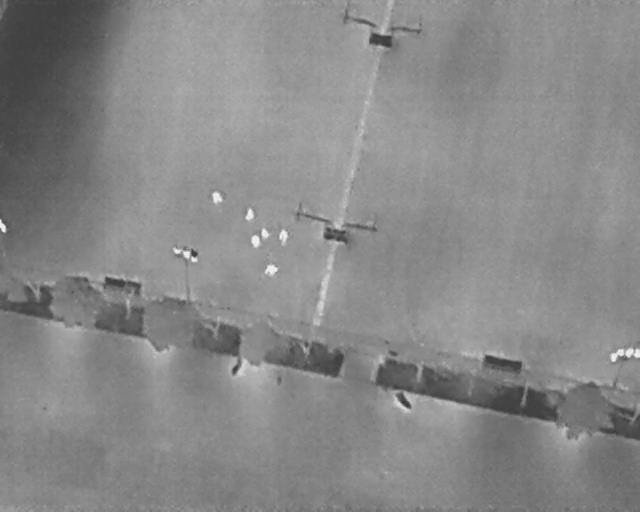Person: (264, 262, 279, 278), (278, 227, 288, 246), (212, 189, 222, 204), (245, 206, 254, 221), (261, 227, 270, 241), (252, 233, 261, 247)
